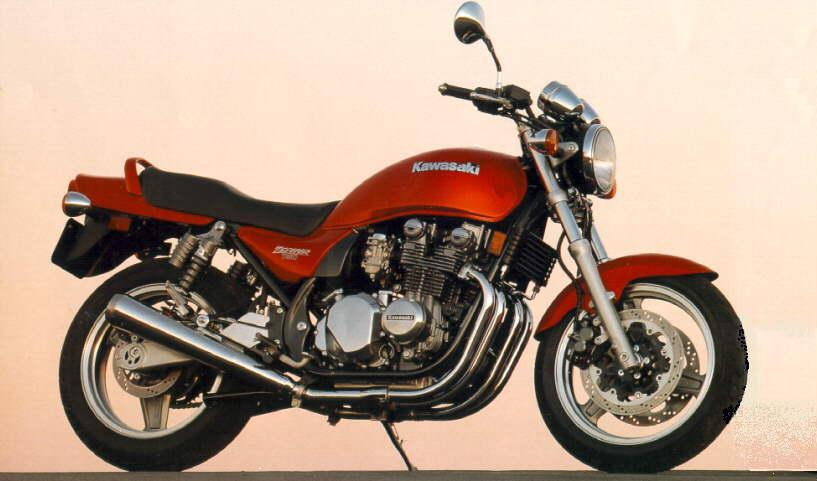motorcycle: (37, 24, 783, 481)
